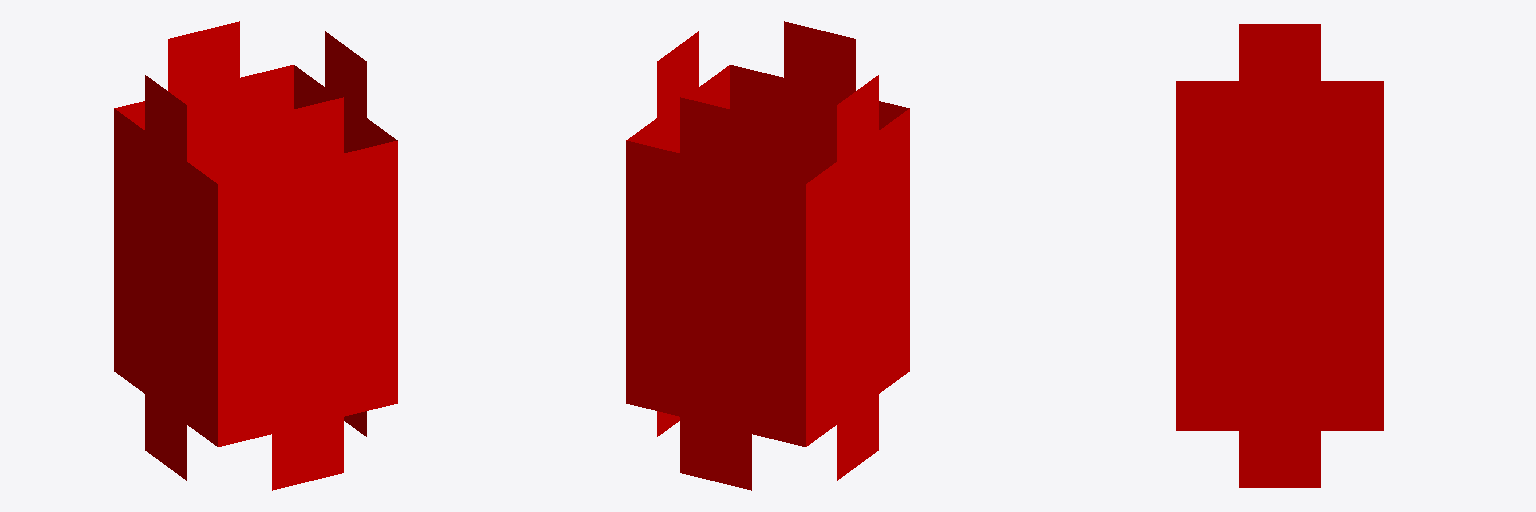
File: circuit.obj
3 renders of one model, left to right at view 1: azimuth 30°, elevation 25°; view 2: azimuth 150°, elevation 25°; view 3: azimuth 270°, elevation 25°, orthographic.
Parts seen in each view (by area): view 1: Box003; view 2: Box003; view 3: Box003.
Boxes of the visible parts, <box> form: Box003: <box>114,21,397,490</box>; Box003: <box>626,21,909,490</box>; Box003: <box>1176,24,1383,487</box>.
Bounding box in the file's own units: 100 × 200 × 100.